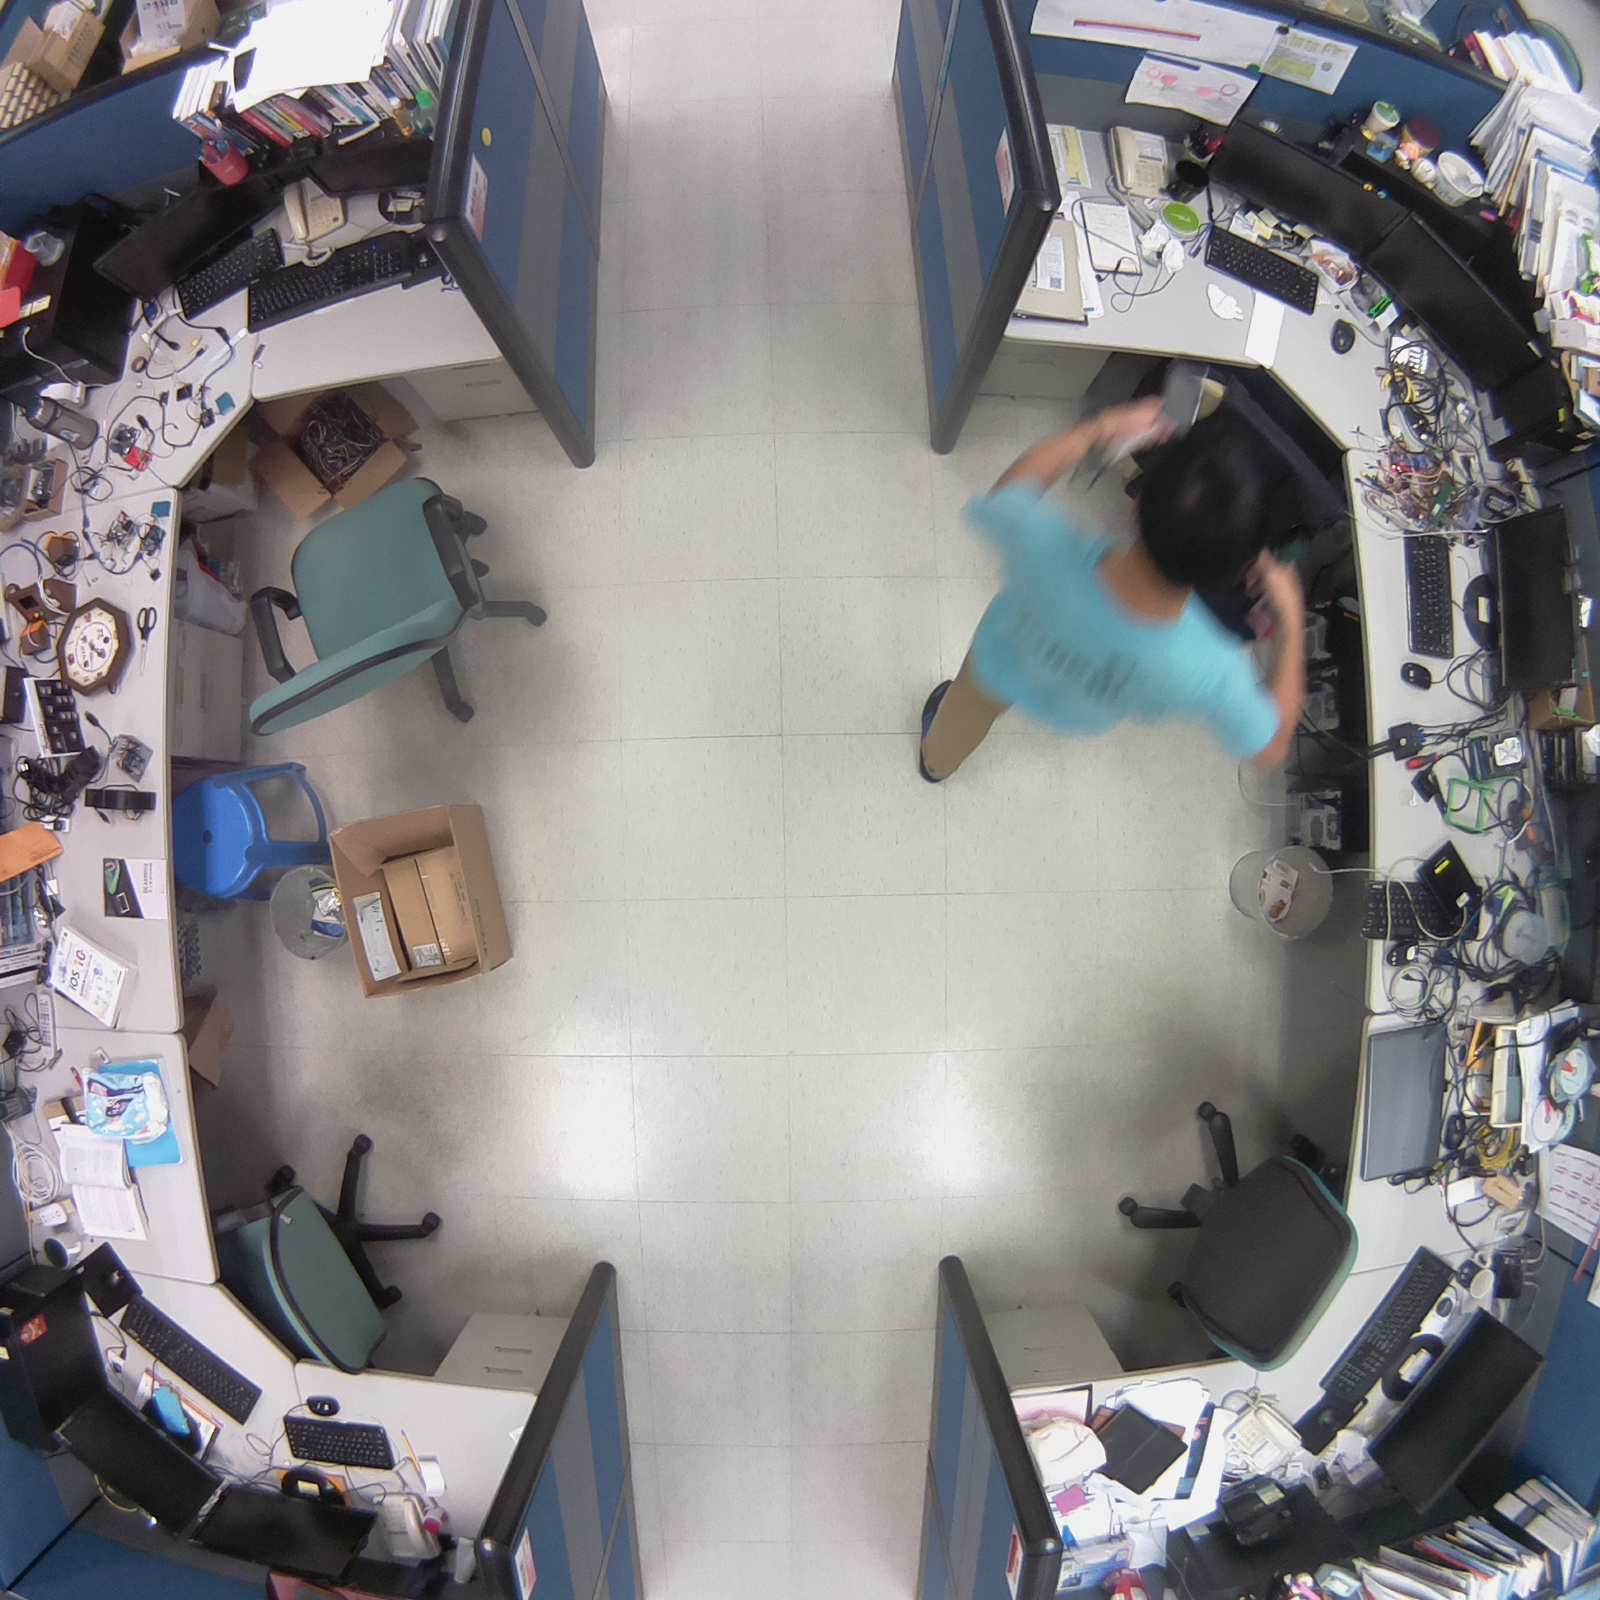chair: (224, 458, 568, 760), (1101, 1083, 1376, 1381), (206, 1122, 458, 1383)
head: (1125, 425, 1280, 598)
walking: (895, 378, 1324, 798)
